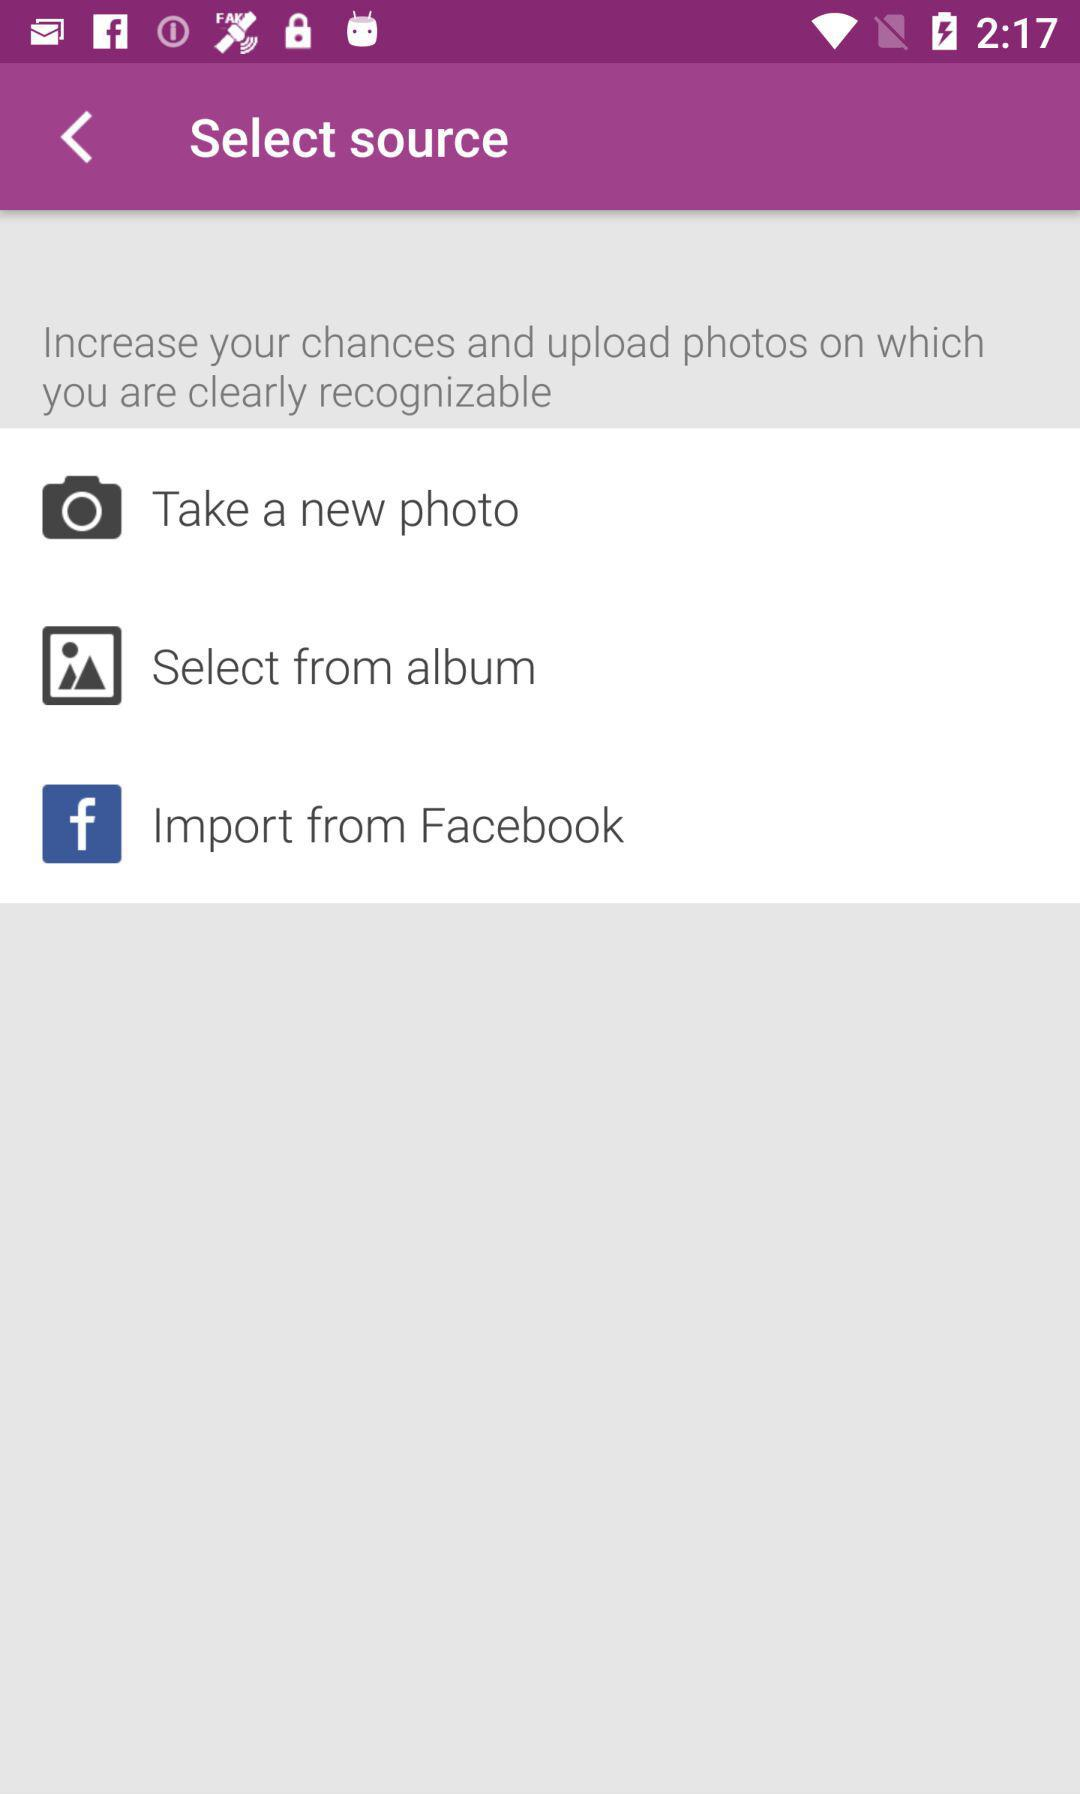Icon: (42, 783, 124, 864), (42, 475, 124, 539), (59, 110, 94, 167)
Image: (42, 625, 124, 706)
Text: (44, 325, 984, 418), (155, 805, 625, 853), (152, 490, 519, 538), (152, 647, 536, 687), (190, 117, 509, 160)
Toolbar: (3, 64, 1080, 210)
UpperTaskBar: (1, 1, 1080, 64)
